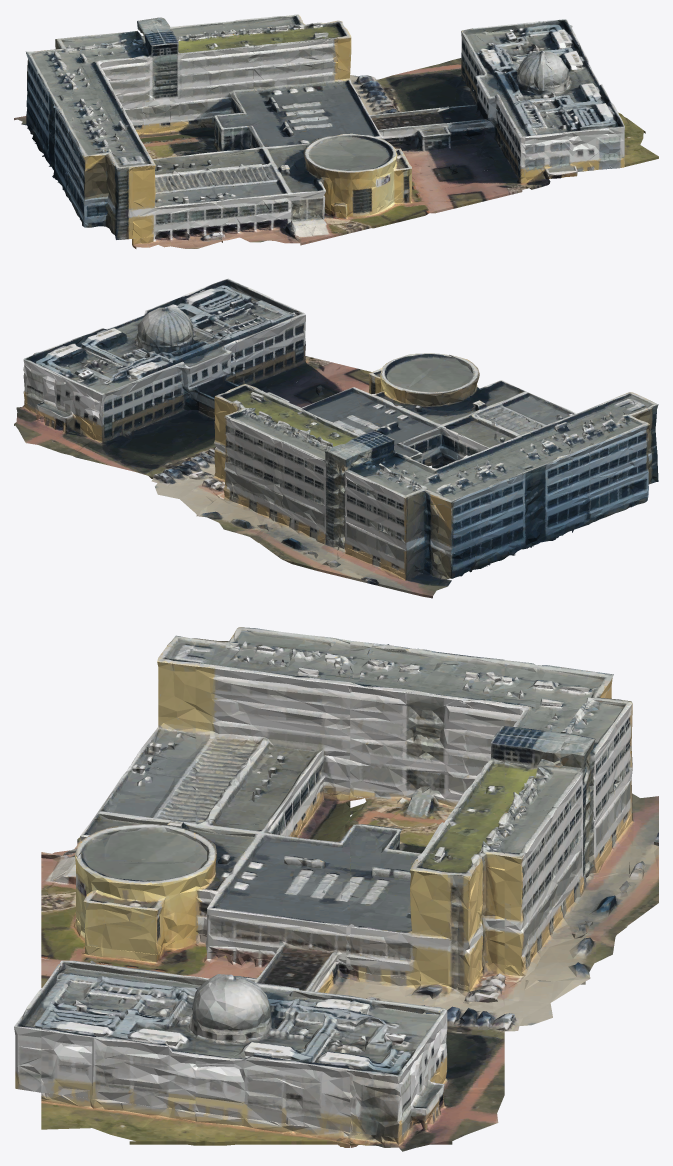
The model's file is wngig_google.glb.
3 views of the same model, one above another, from view 1: azimuth 30°, elevation 25°; view 2: azimuth 150°, elevation 25°; view 3: azimuth 270°, elevation 25° (orthographic). The views are drawn at different scales.
Visible parts, largest first — view 1: BuildingMesh-00243; view 2: BuildingMesh-00243; view 3: BuildingMesh-00243.
Boxes of the visible parts, x1,y1,x2,y2 form: BuildingMesh-00243: (14, 14, 658, 248); BuildingMesh-00243: (14, 278, 658, 598); BuildingMesh-00243: (14, 627, 658, 1151).
Bounding box in the file's own units: 3.01 × 0.4996 × 2.02.
22 materials, 22 textured.
